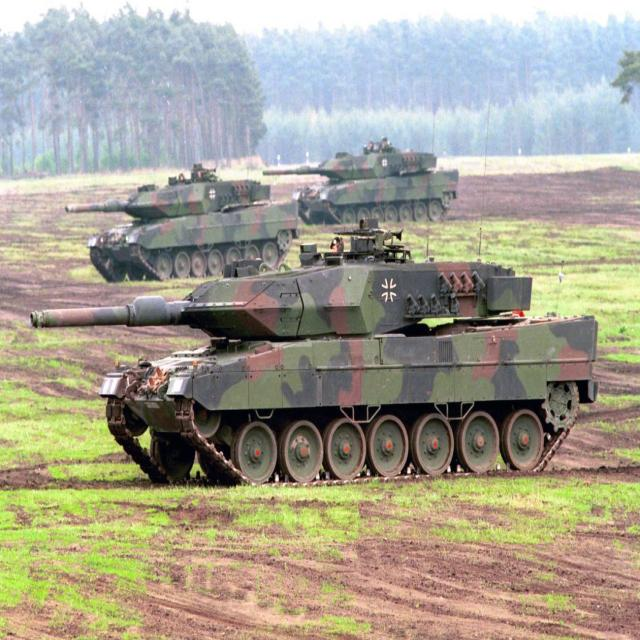Tanks: (19, 215, 575, 534), (51, 84, 306, 322), (242, 28, 514, 232)
